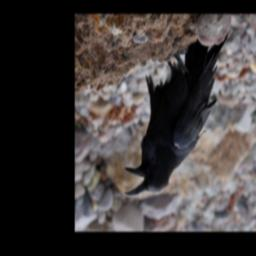Crow: (124, 31, 231, 195)
